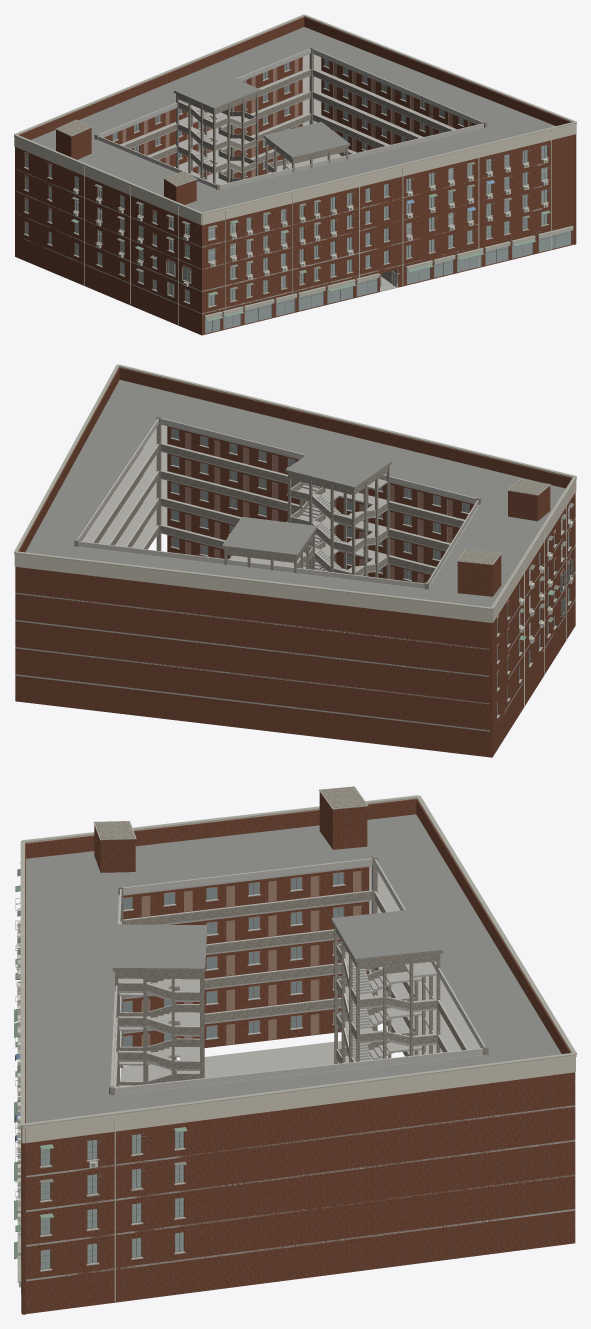
Rendered from yangpu-longchang-apartments-grant-road-barracks-courtyard-lod.glb.
The picture shows the model from 3 angles, top to bottom: view 1: azimuth 30°, elevation 25°; view 2: azimuth 150°, elevation 25°; view 3: azimuth 270°, elevation 25°; orthographic projection. The views are drawn at different scales.
Parts seen in each view (by area): view 1: 隆昌公寓——北院四面外廊与梯塔; view 2: 隆昌公寓——北院四面外廊与梯塔; view 3: 隆昌公寓——北院四面外廊与梯塔.
Boxes of the visible parts, x1,y1,x2,y2 form: 隆昌公寓——北院四面外廊与梯塔: [14, 14, 576, 335]; 隆昌公寓——北院四面外廊与梯塔: [14, 364, 576, 757]; 隆昌公寓——北院四面外廊与梯塔: [14, 786, 576, 1314].
Size of the model in its own units: 76.53 by 23.38 by 55.1.
26 materials, 2 textured.
